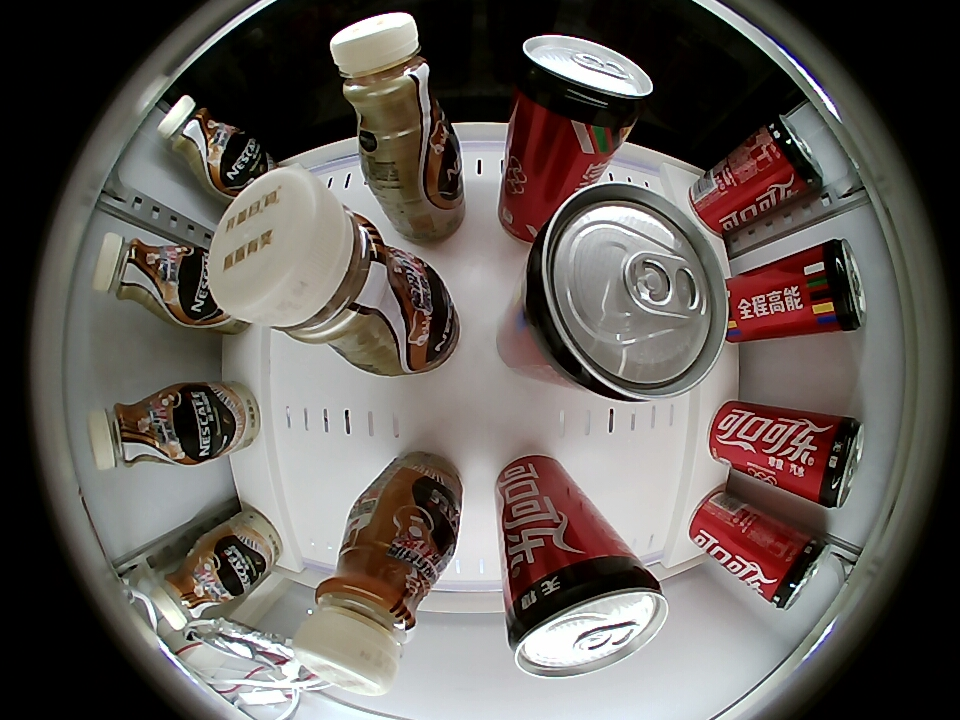kafei: (204, 167, 439, 374), (297, 541, 442, 696), (331, 12, 459, 165), (93, 232, 201, 324), (88, 386, 198, 469), (156, 95, 254, 185), (150, 543, 239, 630)
lingdukele: (523, 184, 730, 404), (508, 557, 668, 678), (516, 35, 652, 131), (798, 416, 864, 510), (802, 238, 866, 334), (754, 114, 824, 199), (759, 532, 828, 611)
